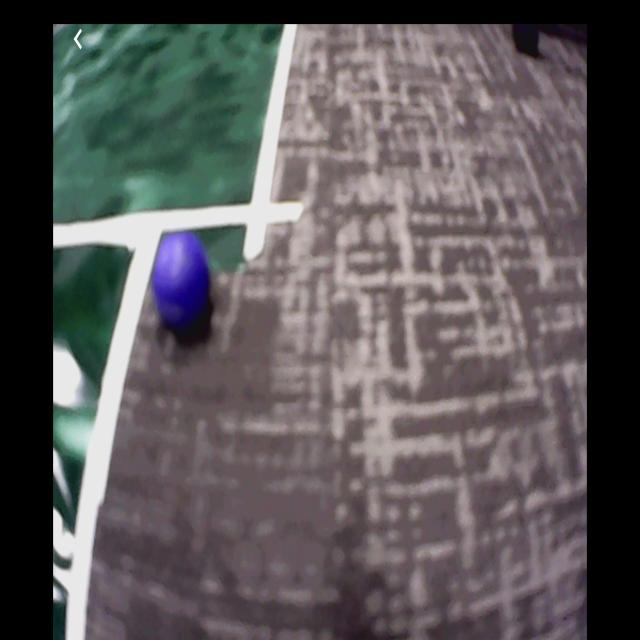ball: (156, 236, 213, 335)
